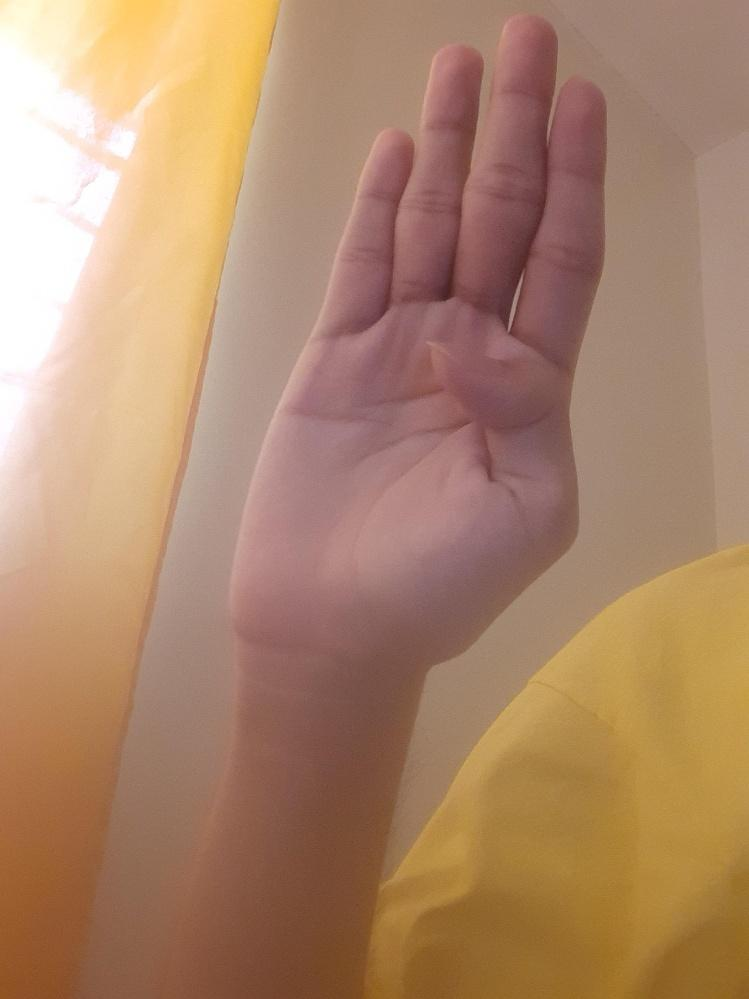b: (281, 10, 606, 645)
